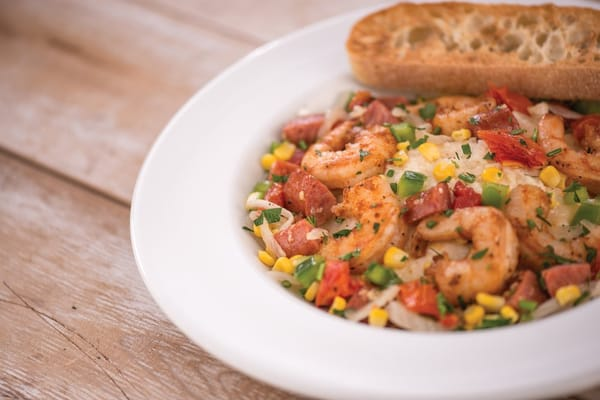sushi: (130, 12, 599, 392)
